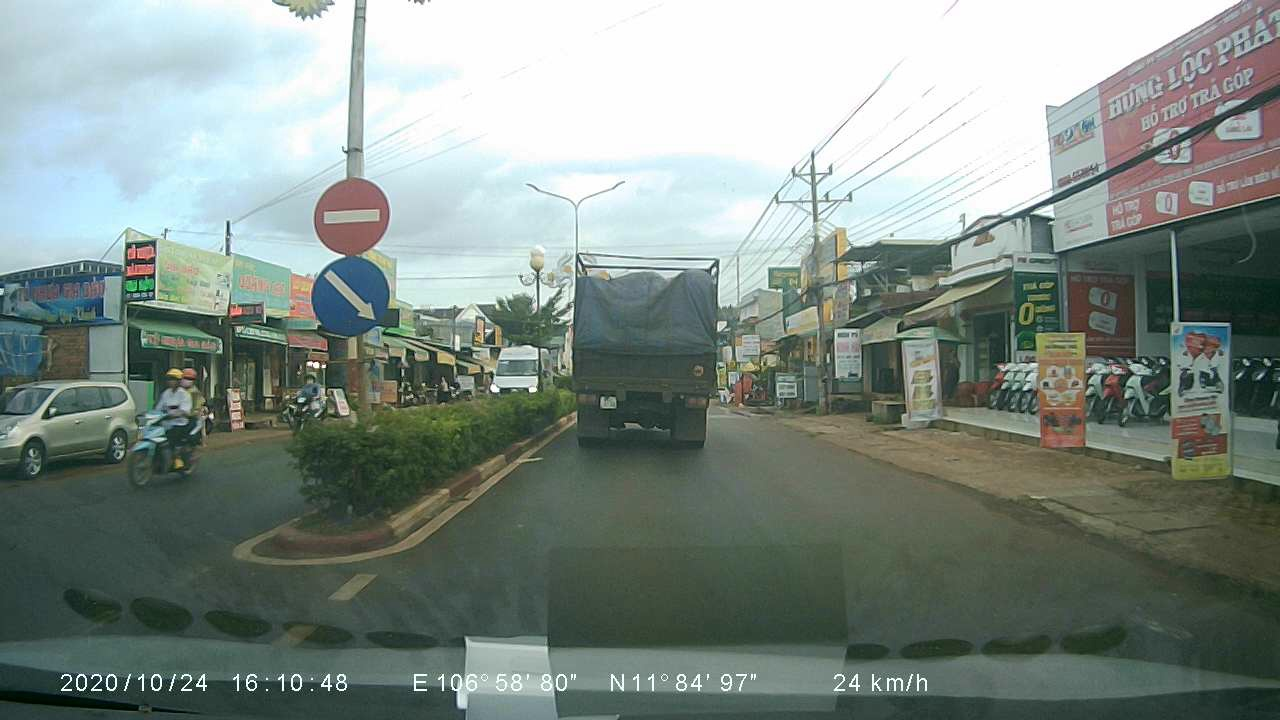Cam di nguoc chieu: (310, 173, 390, 255)
Huong di phai re phai: (308, 255, 393, 338)
